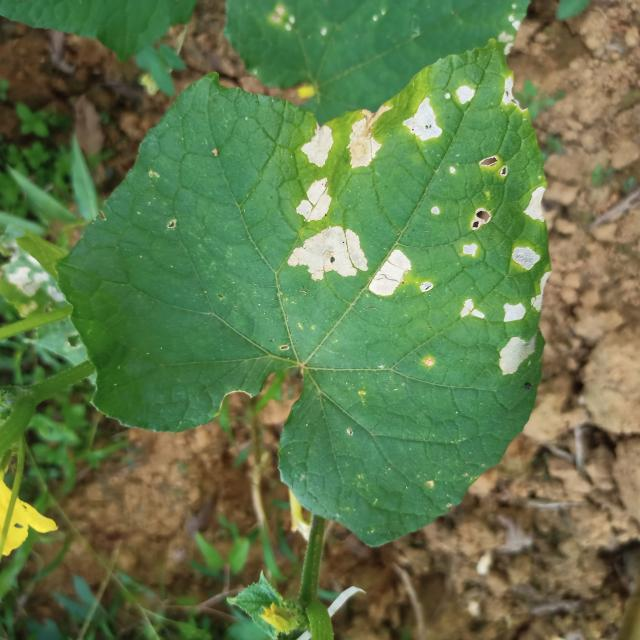disease_cucumber: (290, 224, 410, 293), (403, 78, 478, 141), (302, 116, 379, 167), (496, 301, 535, 376), (460, 205, 493, 260), (296, 177, 332, 220), (525, 183, 547, 224), (530, 272, 552, 310), (508, 248, 541, 272), (459, 298, 485, 322)
